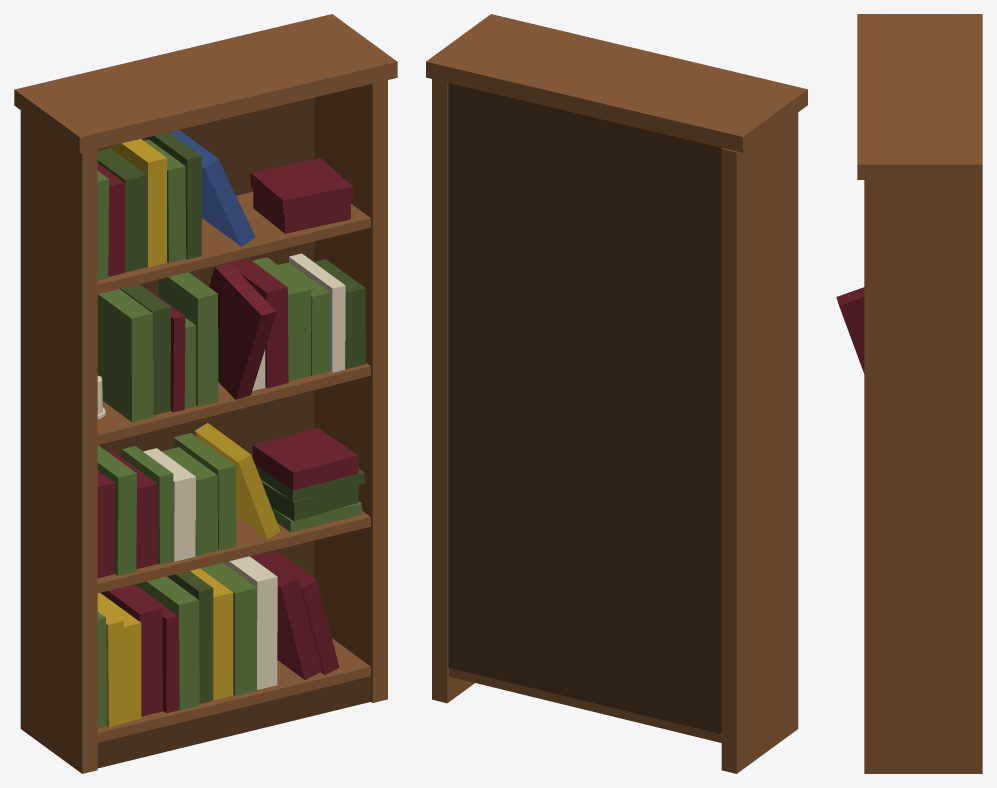
The model's file is Boekenkast.glb.
3 views of the same model, side by side, from view 1: azimuth 30°, elevation 25°; view 2: azimuth 150°, elevation 25°; view 3: azimuth 270°, elevation 25° (orthographic). The views are drawn at different scales.
Visible parts, largest first — view 1: Carcass, BooksMoss, BooksBordeaux, BackAndKick, BooksMossDark, BooksMustard, BooksCream, CrookedBook, BooksBlue; view 2: BackAndKick, Carcass; view 3: Carcass, CrookedBook.
Part boxes in pixels (x1,y1,x2,y2): Carcass: [14, 14, 397, 773]; BooksMoss: [97, 139, 361, 728]; BooksBordeaux: [97, 158, 358, 716]; BackAndKick: [97, 97, 370, 768]; BooksMossDark: [97, 132, 365, 703]; BooksMustard: [97, 139, 280, 727]; BooksCream: [143, 253, 345, 689]; CrookedBook: [208, 263, 276, 399]; BooksBlue: [170, 130, 255, 246]; BackAndKick: [448, 83, 721, 734]; Carcass: [426, 14, 807, 773]; Carcass: [857, 14, 982, 773]; CrookedBook: [836, 287, 864, 373].
Bounding box in the file's own units: 1.04 × 2 × 0.4325.
